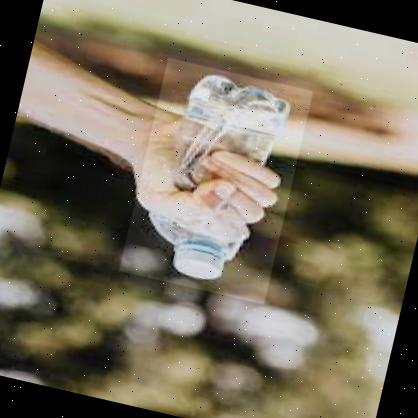bottle: (118, 57, 312, 304)
cap: (168, 233, 233, 288)
